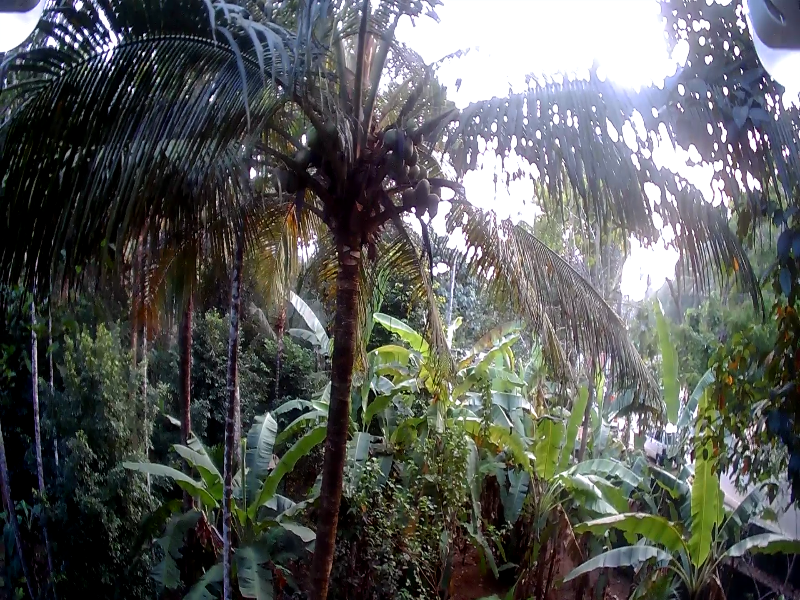coconut: (400, 139, 416, 164), (380, 131, 395, 153), (301, 152, 315, 171), (390, 160, 406, 176), (401, 191, 415, 207), (307, 133, 322, 147), (415, 180, 424, 203), (427, 193, 436, 210)
